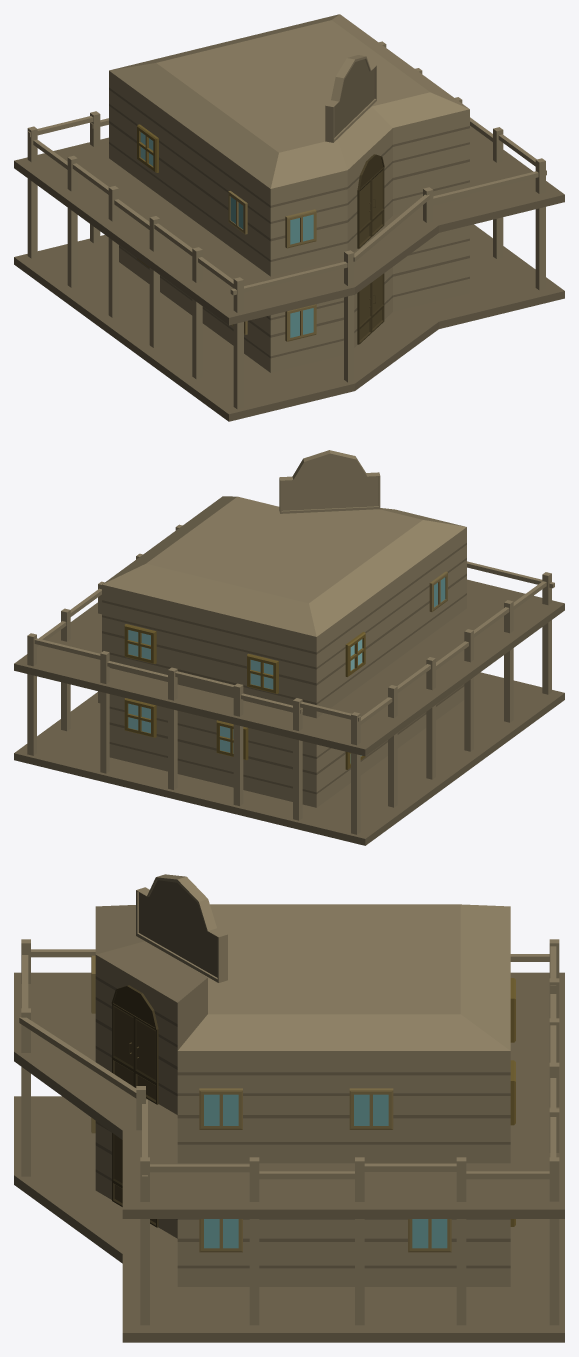
File: Building_01.fbx
3 renders of one model, top to bottom at view 1: azimuth 30°, elevation 25°; view 2: azimuth 150°, elevation 25°; view 3: azimuth 270°, elevation 25°, orthographic. The views are drawn at different scales.
Visible parts, largest first — view 1: Building_01; view 2: Building_01; view 3: Building_01.
Part boxes in pixels (bbox=[...]): Building_01: bbox=[14, 14, 564, 421]; Building_01: bbox=[14, 450, 564, 845]; Building_01: bbox=[14, 874, 564, 1342].
Size of the model in its own units: 870 by 592 by 856.
